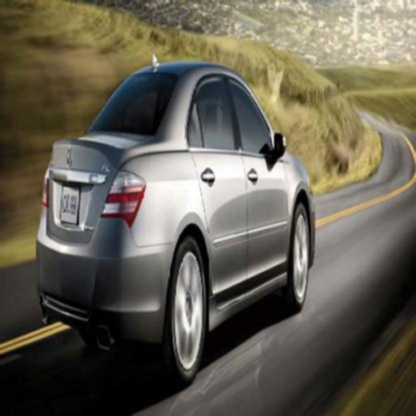Vehicle: (37, 52, 317, 388)
